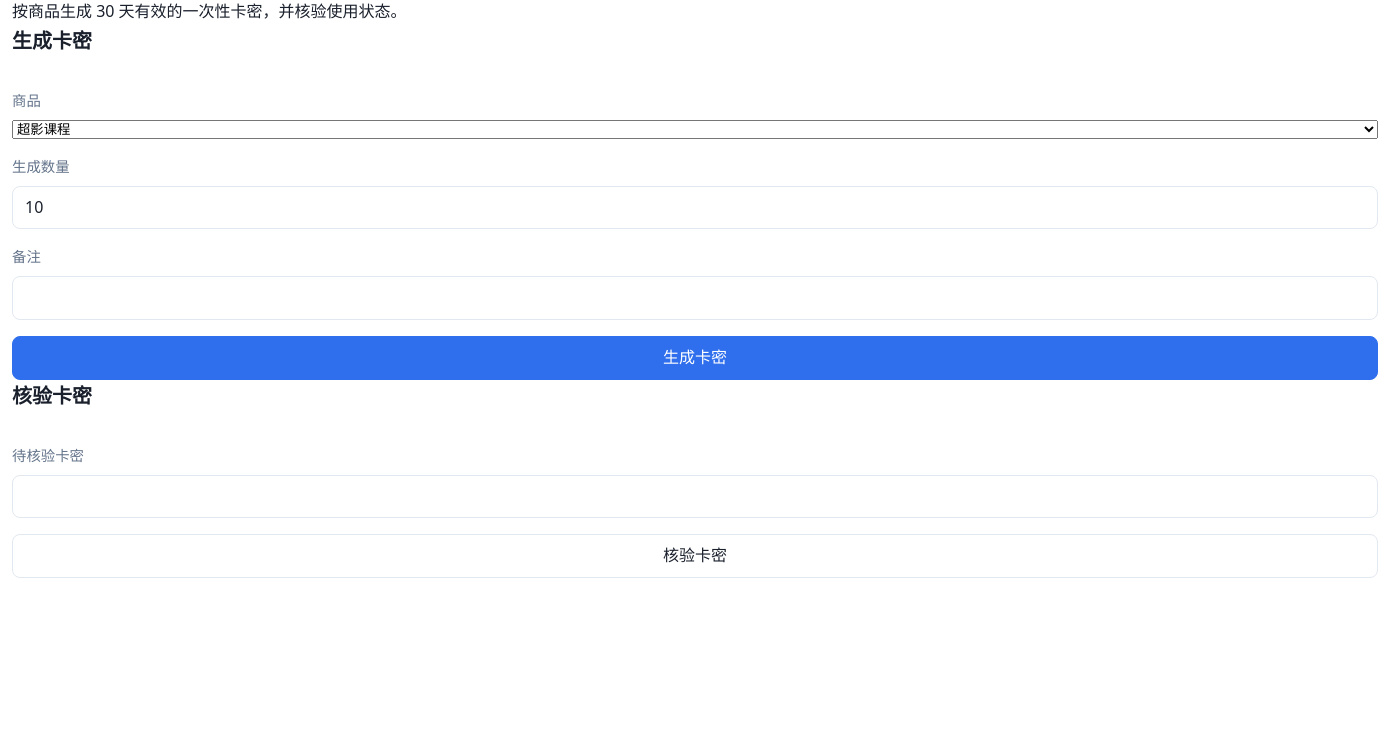
Scenario: AdminCardKeys › generates and verifies card keys
Select "超影课程" in the dropdown labelled "商品" at (695, 129), box [12,120,1378,139]
Replace the text in the number field labelled "生成数量" with "1" at (695, 208), box [12,186,1378,229]
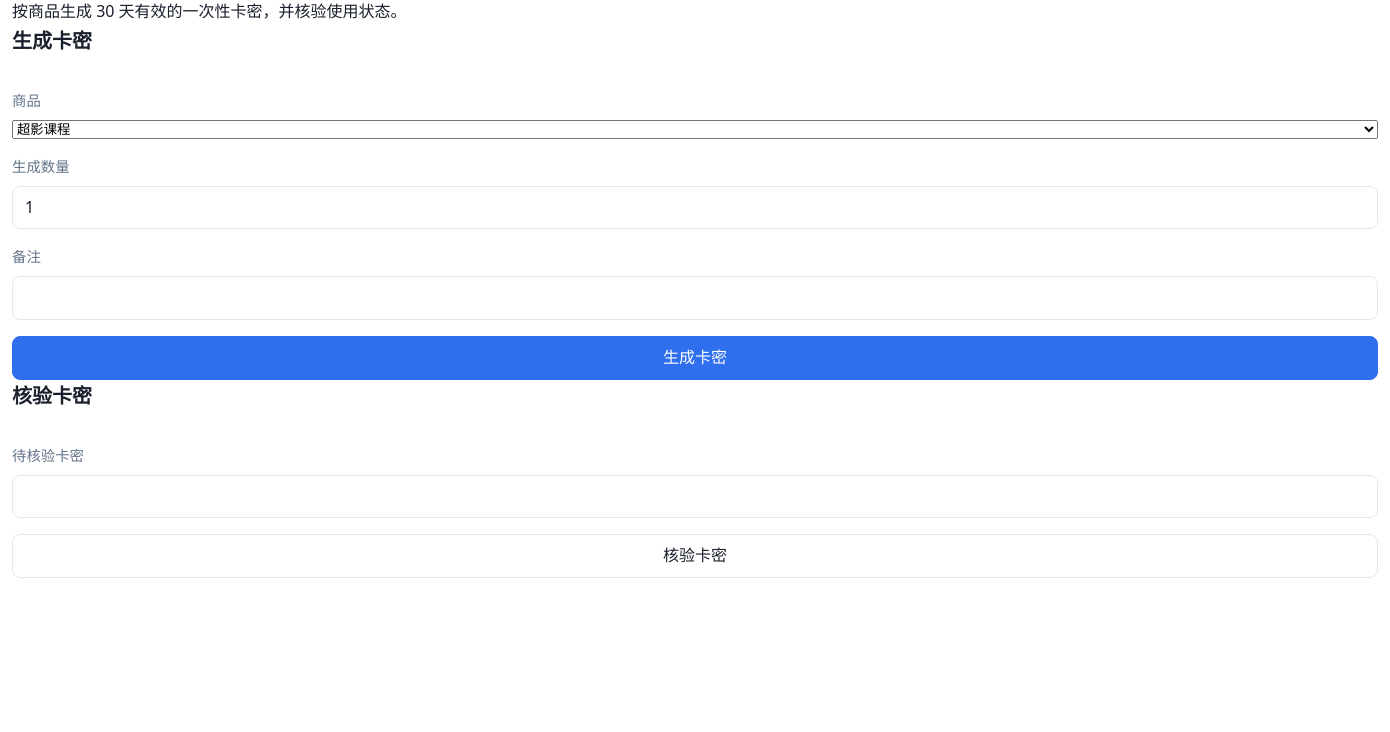
Click the button "生成卡密" at (695, 358), box [12,336,1378,380]
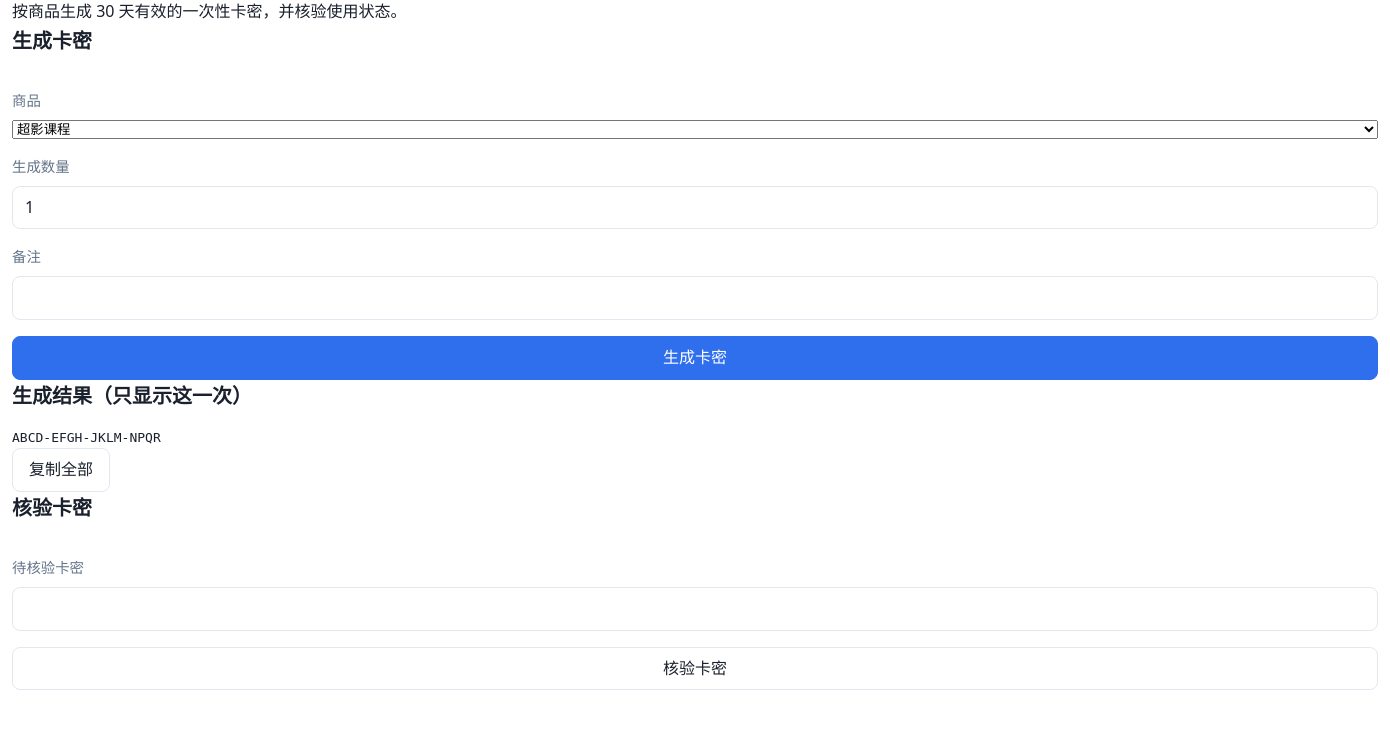
expect the text "ABCD-EFGH-JKLM-NPQR" is shown: met, box [12,430,161,444]
Type "ABCD-EFGH-JKLM-NPQR" into the field labelled "待核验卡密" at (695, 609), box [12,587,1378,631]
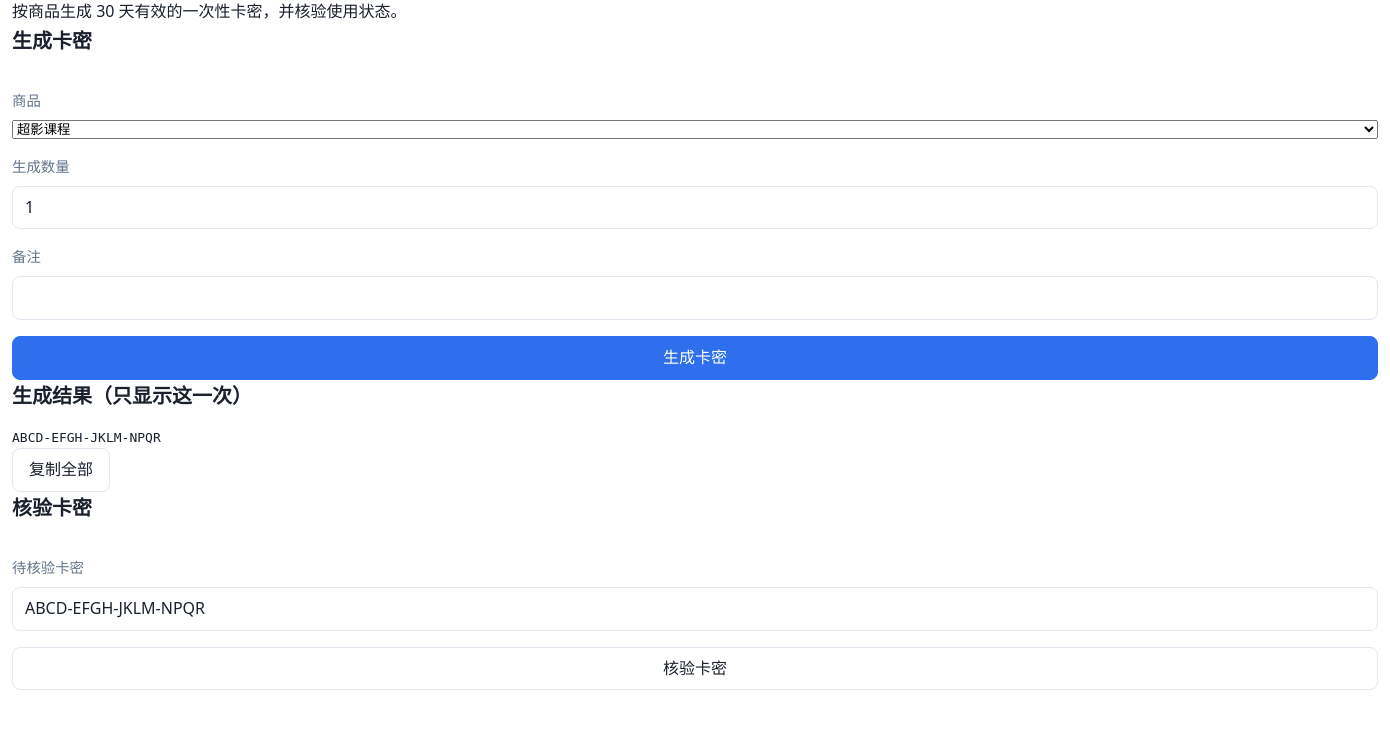
Click the button "核验卡密" at (695, 668), box [12,646,1378,690]
(page scrolled)
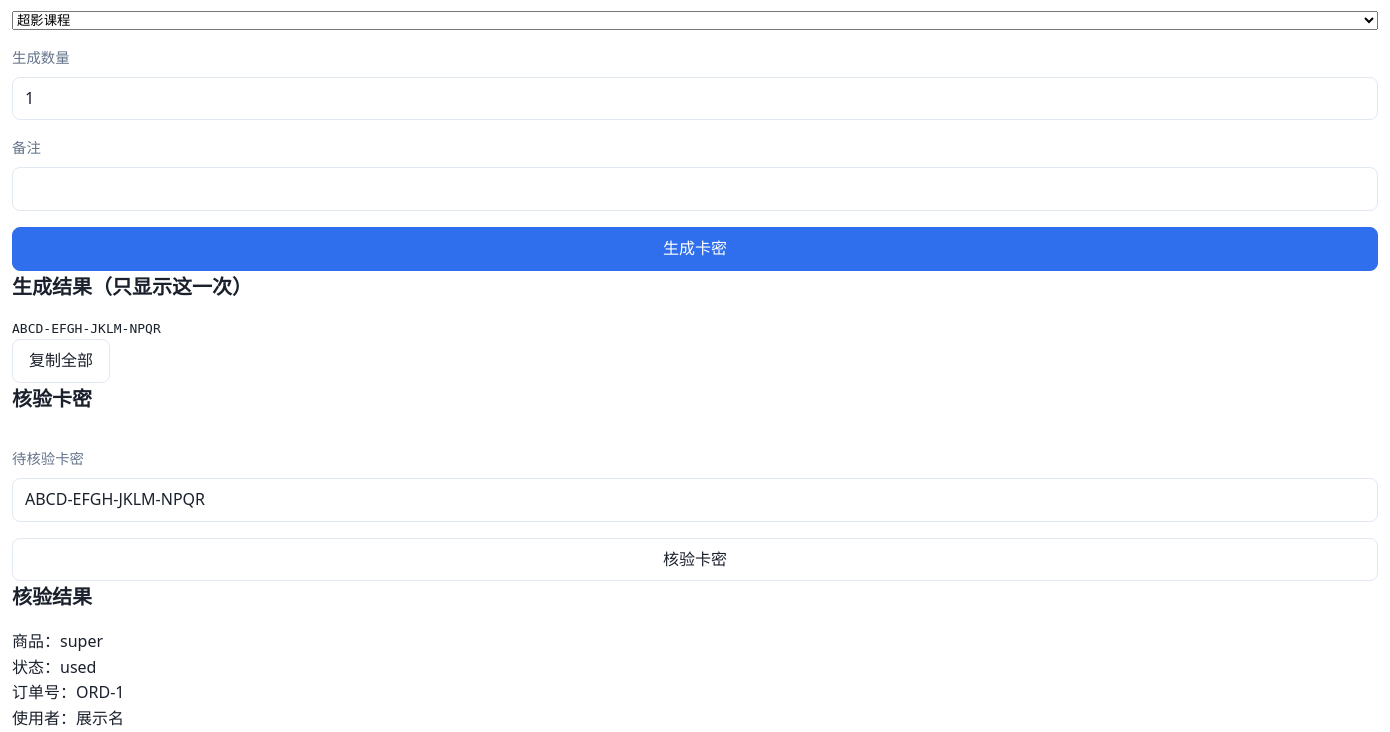
expect the text "订单号：ORD-1" is shown: met, box [12,681,124,703]
